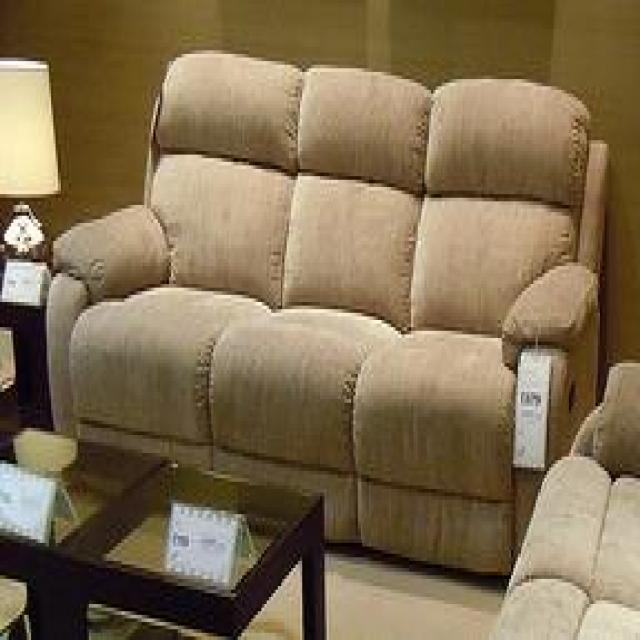sofa: (44, 47, 609, 579)
